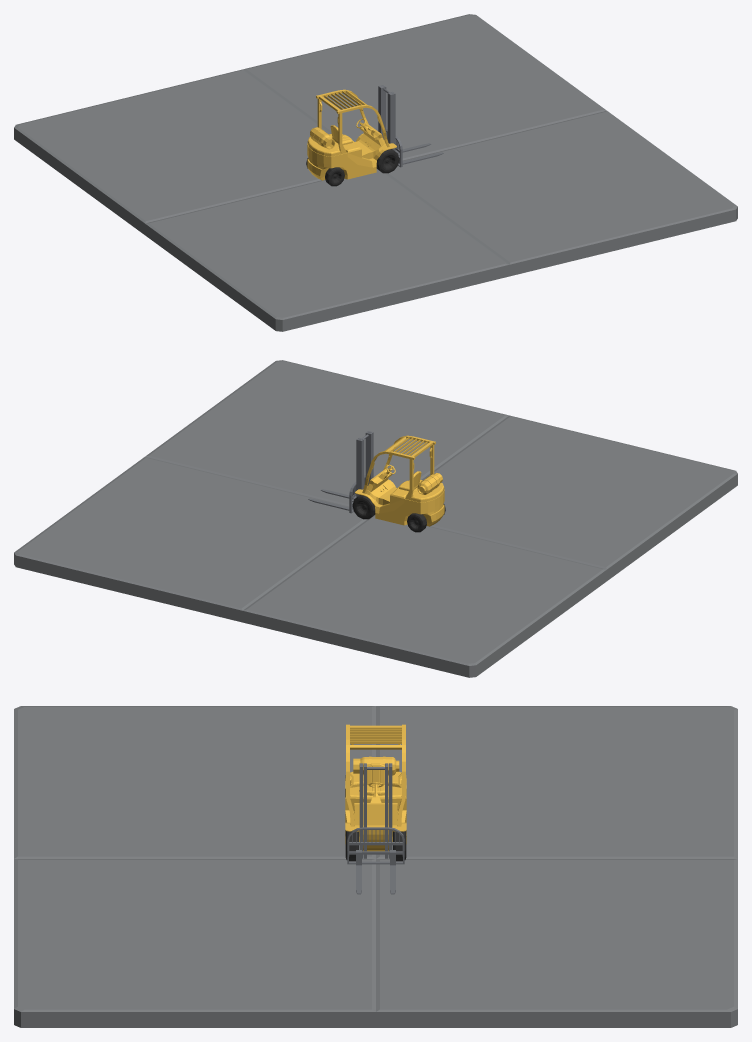
File: Fork_Lift.glb
3 renders of one model, top to bottom at view 1: azimuth 30°, elevation 25°; view 2: azimuth 150°, elevation 25°; view 3: azimuth 270°, elevation 25°, orthographic. The views are drawn at different scales.
Parts seen in each view (by area): view 1: Render_Floor, Fork_Lift_Body; view 2: Render_Floor, Fork_Lift_Body; view 3: Render_Floor, Fork_Lift_Body, Forks, Fork_Rails_Inner, Fork_Rails_Outer.
Part boxes in pixels (<box>): Render_Floor: <box>14,14,737,331</box>; Fork_Lift_Body: <box>307,89,396,180</box>; Render_Floor: <box>14,360,737,677</box>; Fork_Lift_Body: <box>355,435,444,526</box>; Render_Floor: <box>14,706,737,1027</box>; Fork_Lift_Body: <box>345,724,406,851</box>; Forks: <box>347,827,404,894</box>; Fork_Rails_Inner: <box>363,763,388,858</box>; Fork_Rails_Outer: <box>359,763,392,858</box>.
Size of the model in its own units: 128 by 23.06 by 128.
